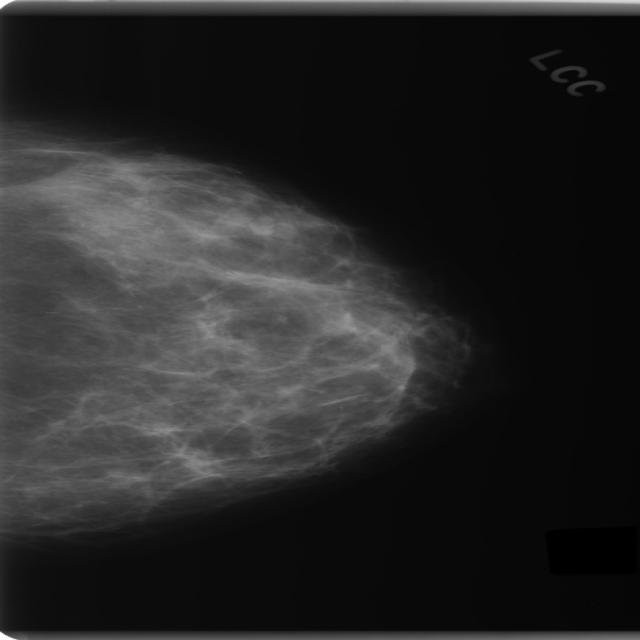tumour: (211, 207, 278, 236)
